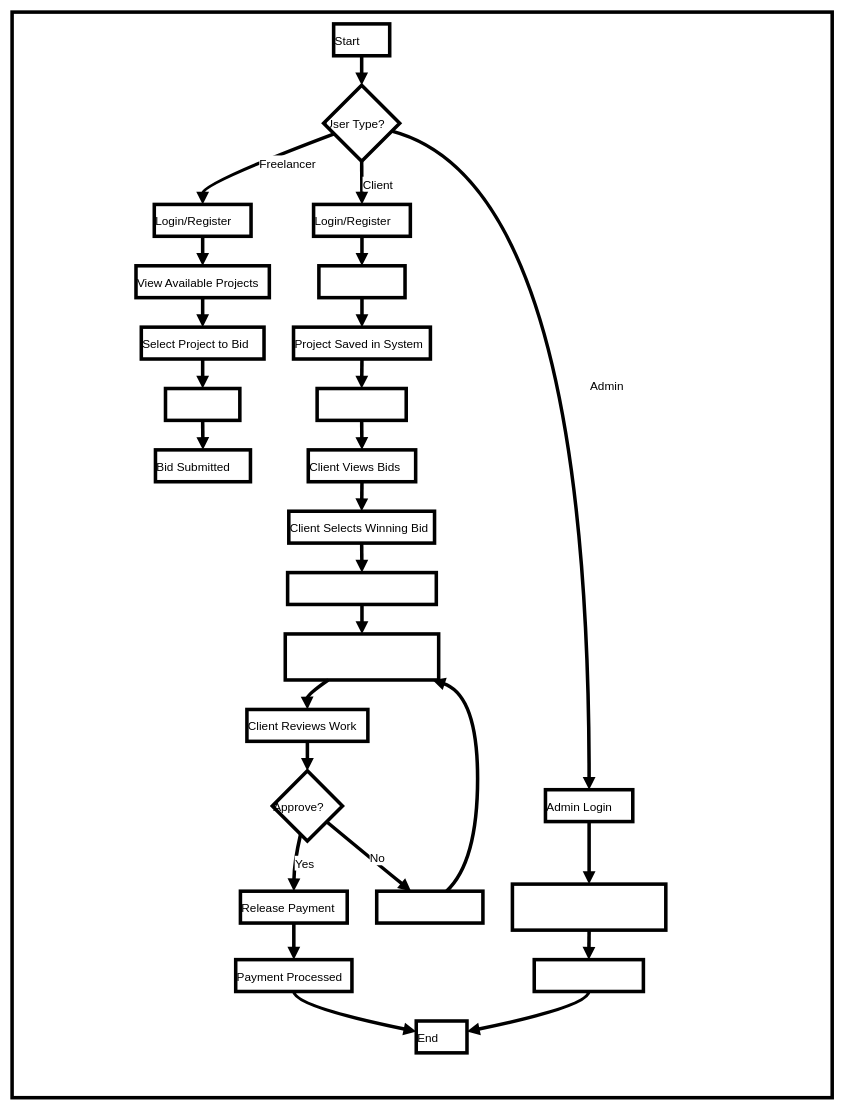
Image size: 844x1109. Some labels were removed from this diagram. The centre of each missing label's shape, as x and y in pixels:
"Freelancer Submits Final Work" goes at (x=361, y=656).
"Generate Reports" goes at (x=588, y=975).
"Manage Users/Projects/Bids" goes at (x=588, y=907).
"Place Bid" goes at (x=202, y=404).
"Post Project" goes at (x=362, y=281).
"Request Changes" goes at (x=429, y=907).
"System Notifies Freelancer" goes at (x=362, y=588).
"Wait for Bids" goes at (x=361, y=404).
